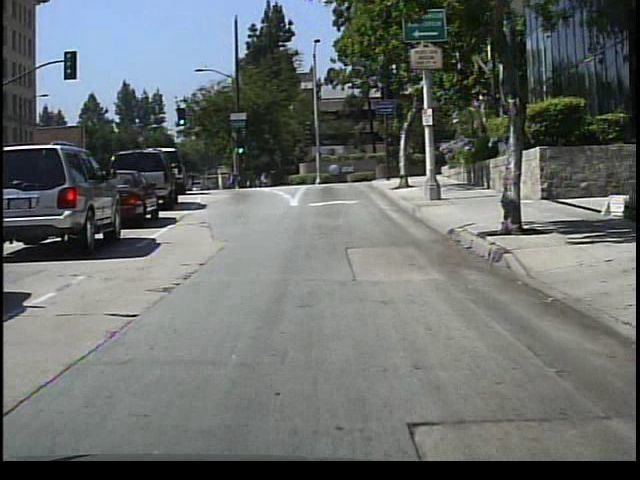person: (256, 165, 272, 190), (226, 166, 240, 191)
